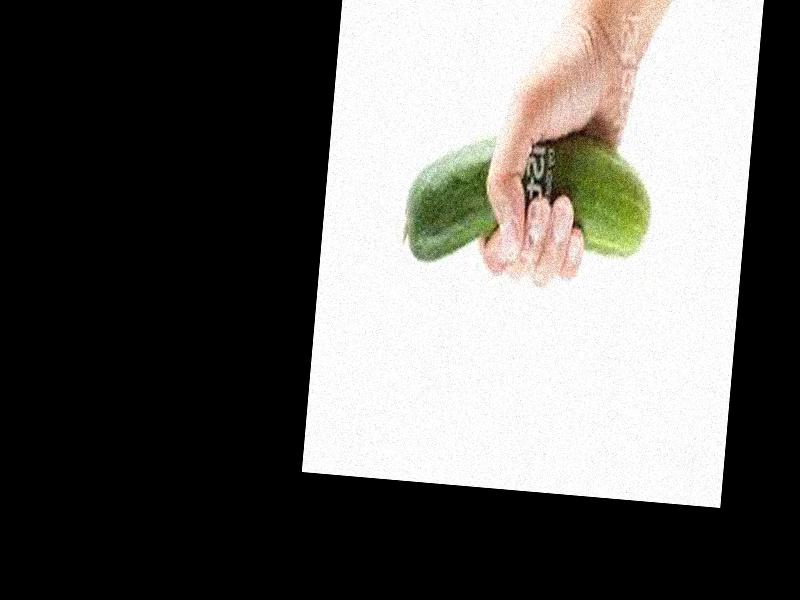Cucumber: (401, 119, 655, 283)
